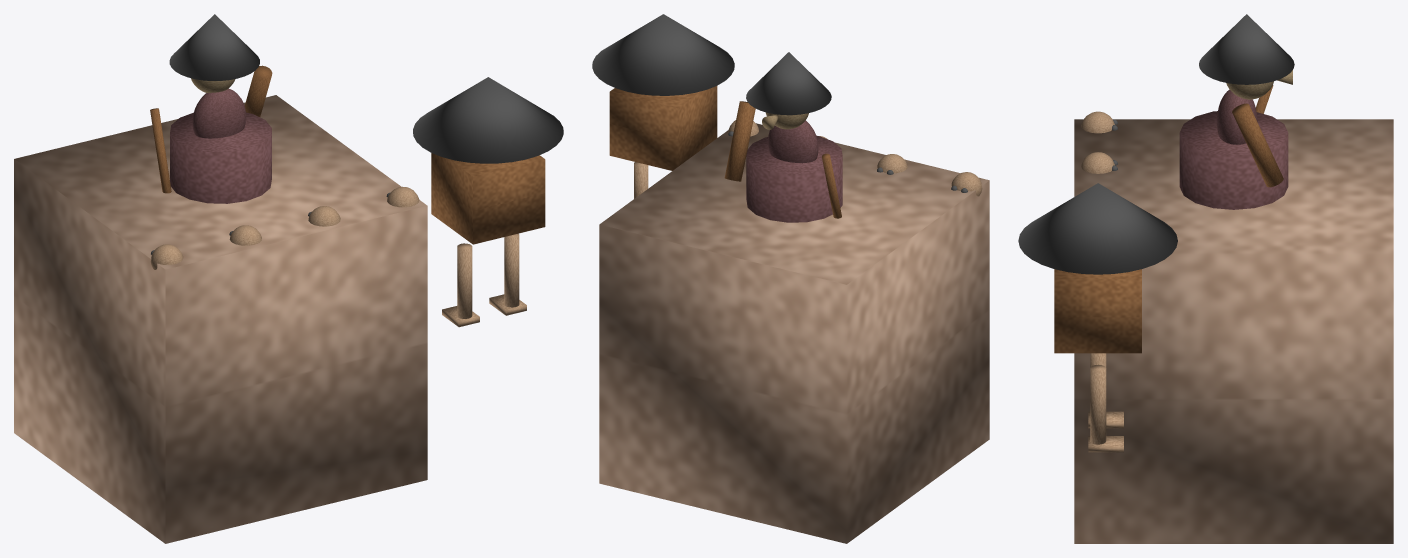
The model's file is baba-yaga.glb.
3 views of the same model, side by side, from view 1: azimuth 30°, elevation 25°; view 2: azimuth 150°, elevation 25°; view 3: azimuth 270°, elevation 25° (orthographic). The views are drawn at different scales.
Parts seen in each view (by area): view 1: Cube, HutRoof, Hut, StoopRobe, Hat, Torso, ChickenLeg, ChickenLeg.001, Pestle, BroomHandle; view 2: Cube, HutRoof, Hut, StoopRobe, Hat, Torso, Pestle, BroomHandle, FenceSkull0; view 3: Cube, HutRoof, StoopRobe, Hut, Hat, Pestle, ChickenLeg.001, Torso, FenceSkull0, FenceSkull1, Head, ChickenFoot.001.
Boxes of the visible parts, bbox=[...] form: Cube: bbox=[14, 95, 427, 543]; HutRoof: bbox=[413, 77, 563, 163]; Hut: bbox=[431, 153, 545, 244]; StoopRobe: bbox=[170, 112, 271, 203]; Hat: bbox=[169, 14, 259, 80]; Torso: bbox=[192, 88, 245, 138]; ChickenLeg: bbox=[457, 243, 472, 318]; ChickenLeg.001: bbox=[504, 233, 519, 307]; Pestle: bbox=[244, 65, 272, 116]; BroomHandle: bbox=[150, 108, 171, 193]; Cube: bbox=[599, 123, 989, 543]; HutRoof: bbox=[592, 14, 734, 95]; Hut: bbox=[609, 86, 717, 170]; StoopRobe: bbox=[746, 135, 842, 222]; Hat: bbox=[746, 52, 831, 115]; Torso: bbox=[768, 120, 818, 163]; Pestle: bbox=[724, 101, 755, 181]; BroomHandle: bbox=[822, 153, 841, 218]; FenceSkull0: bbox=[951, 172, 982, 196]; Cube: bbox=[1074, 119, 1393, 543]; HutRoof: bbox=[1018, 183, 1177, 274]; StoopRobe: bbox=[1179, 111, 1288, 209]; Hut: bbox=[1054, 269, 1141, 353]; Hat: bbox=[1199, 14, 1294, 84]; Pestle: bbox=[1232, 103, 1283, 187]; ChickenLeg.001: bbox=[1090, 364, 1106, 444]; Torso: bbox=[1216, 89, 1257, 144]; FenceSkull0: bbox=[1081, 111, 1114, 133]; FenceSkull1: bbox=[1081, 152, 1114, 173]; Head: bbox=[1226, 81, 1273, 99]; ChickenFoot.001: bbox=[1088, 436, 1123, 452].
Bounding box in the file's own units: 1.92 × 2 × 1.47.
6 materials, 5 textured.
